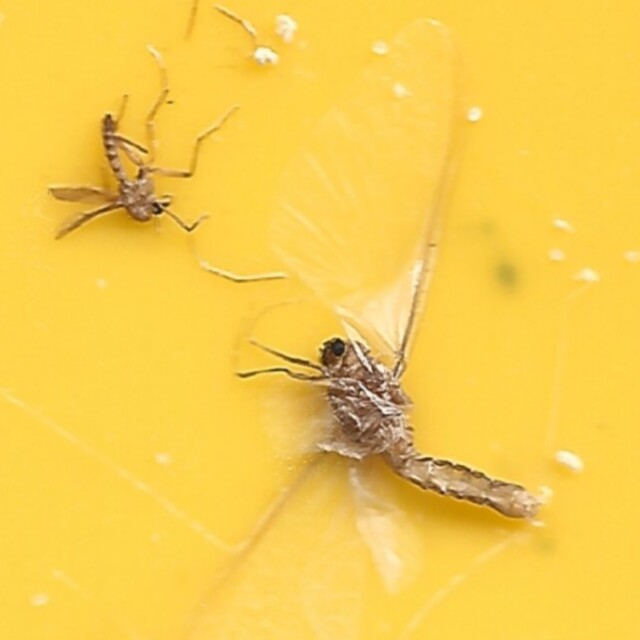Ephemeroptera: (307, 336, 540, 529)
Nematocera: (100, 111, 166, 228)
